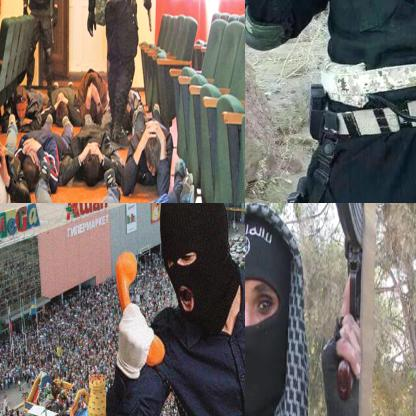pistol: (140, 0, 157, 32)
rifle: (323, 203, 378, 408)
